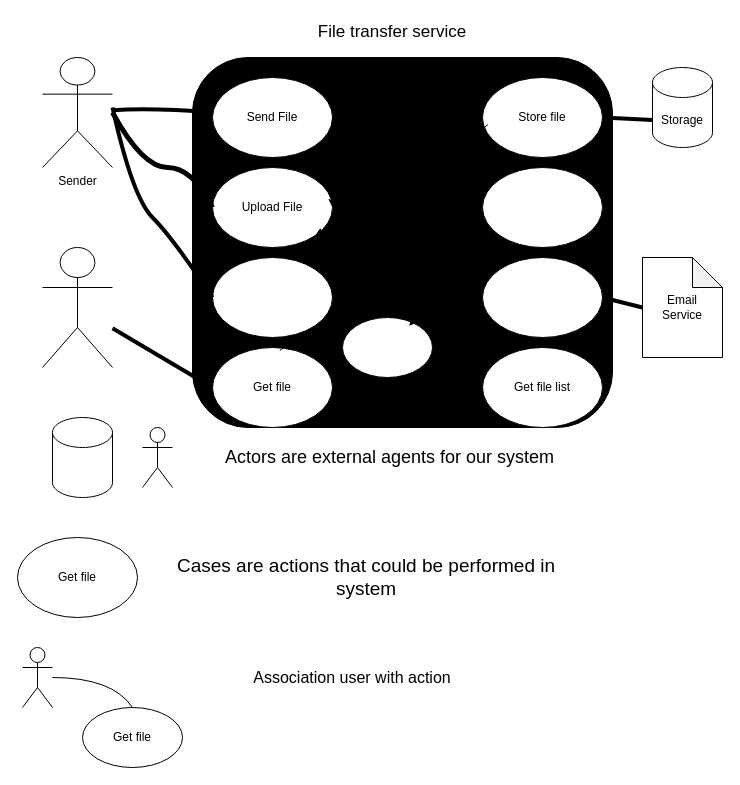
The diagram is 740 pixels wide and 785 high, and some of its shapes have lost their labels. Here are the shapes that lost their labels. From the top down, the centre of each, then its label:
At point (542, 207): "Save file metadata".
At point (77, 307): "Recepient".
At point (272, 297): "Specify Recepient".
At point (542, 297): "Send email".
At point (387, 347): "Get available".
